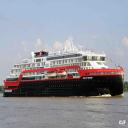cruises: (4, 36, 126, 100)
